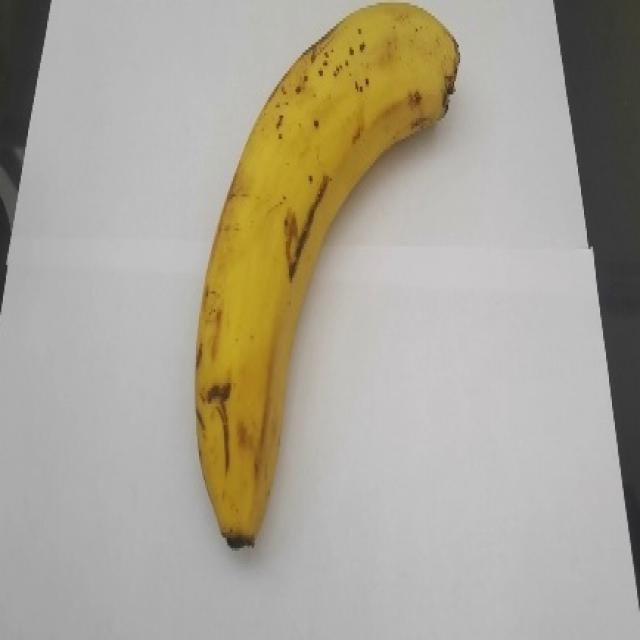Apple: (192, 2, 463, 544)
